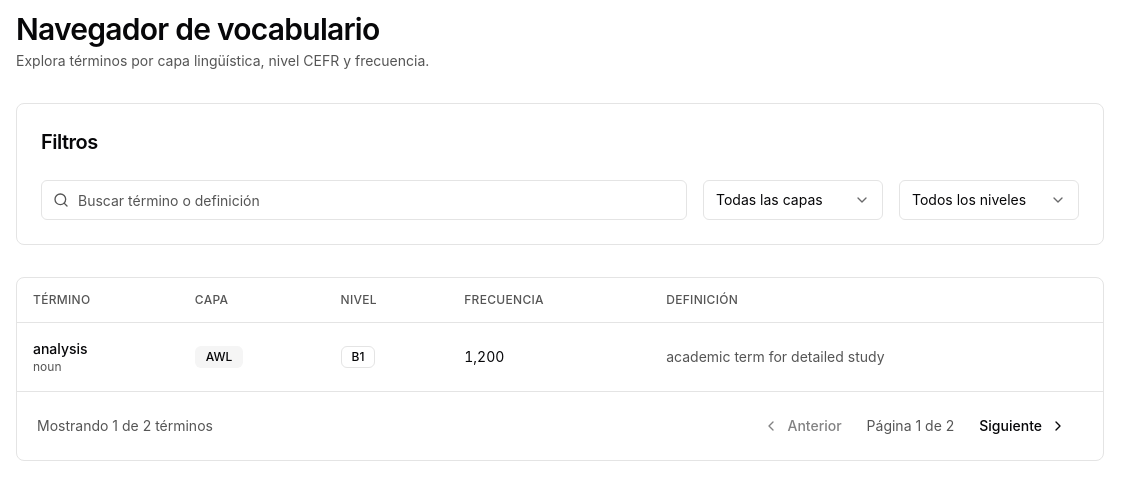
Scenario: VocabularyPage › renders rows, applies debounced search, and paginates on the server
Check: the text "analysis" is shown, box x1=33 y1=340 x2=88 y2=356
Type "queue" into the field with placeholder "Buscar término o definición" at (364, 200), box x1=41 y1=180 x2=687 y2=220
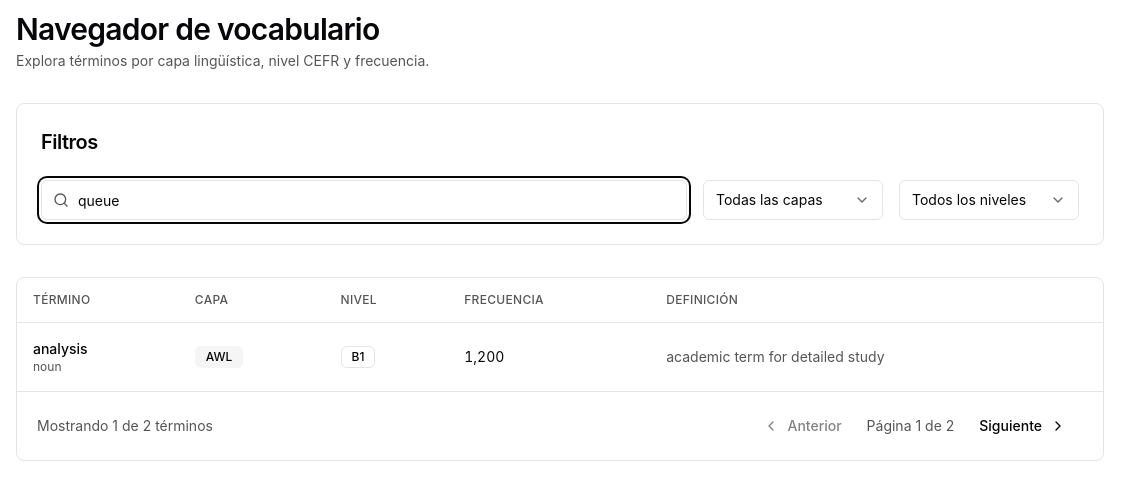
Click the button "Siguiente" at (1023, 426), box x1=962 y1=408 x2=1083 y2=444
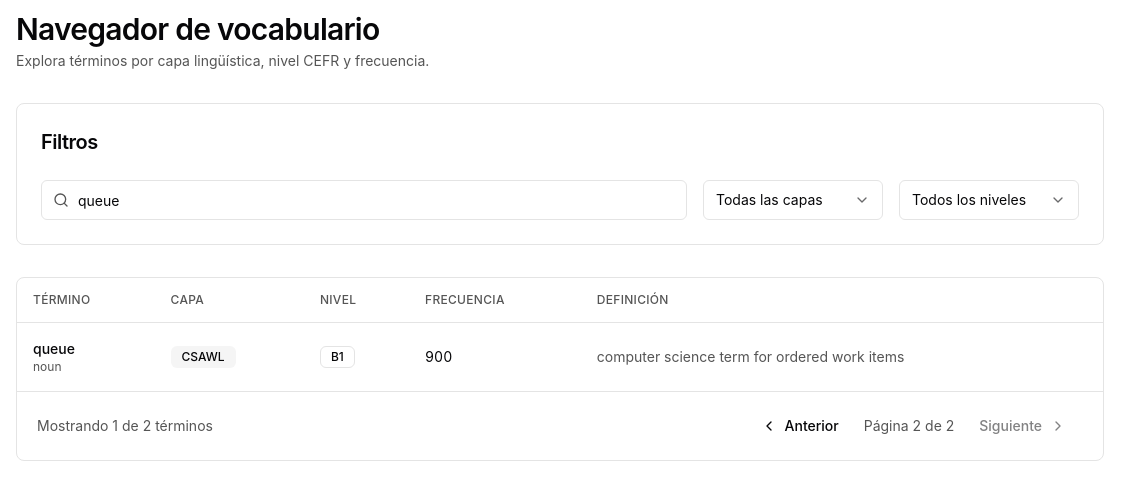
Check: the text "queue" is shown, box x1=33 y1=340 x2=75 y2=356
